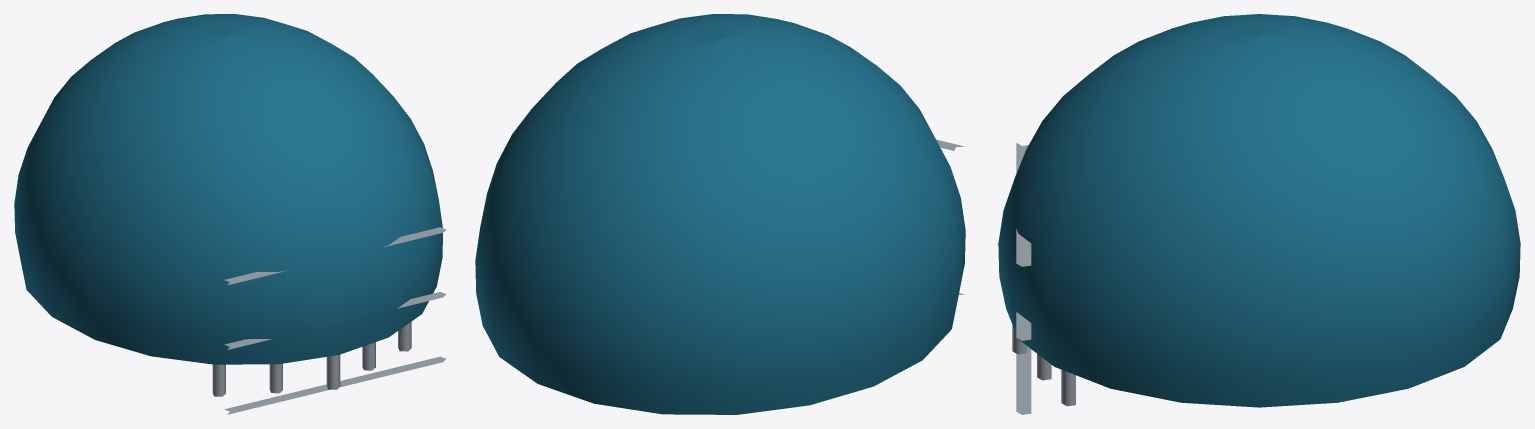
Rendered from helmet_core_guard_01_v1.glb.
The picture shows the model from 3 angles, left to right: view 1: azimuth 30°, elevation 25°; view 2: azimuth 150°, elevation 25°; view 3: azimuth 270°, elevation 25°; orthographic projection. The views are drawn at different scales.
Parts seen in each view (by area): view 1: Helmet_Shell, Helmet_Grille; view 2: Helmet_Shell; view 3: Helmet_Shell, Helmet_Grille.
Boxes of the visible parts, x1,y1,x2,y2 form: Helmet_Shell: (14, 14, 442, 364); Helmet_Grille: (212, 227, 446, 414); Helmet_Shell: (475, 14, 965, 414); Helmet_Shell: (998, 14, 1520, 407); Helmet_Grille: (1012, 143, 1075, 414).
Bounding box in the file's own units: 0.2357 × 0.17 × 0.2556.
